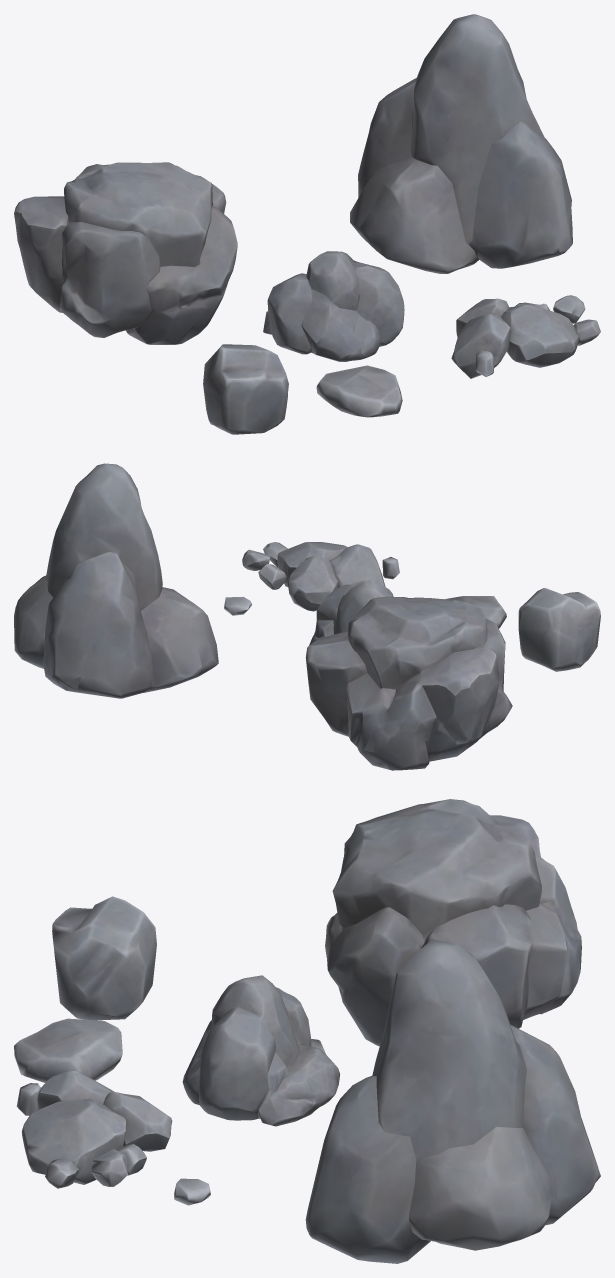
The model's file is rockscliffs.glb.
3 views of the same model, one above another, from view 1: azimuth 30°, elevation 25°; view 2: azimuth 150°, elevation 25°; view 3: azimuth 270°, elevation 25° (orthographic). The views are drawn at different scales.
Visible parts, largest first — view 1: SM_RockPack_Cliff_07_B, SM_RockPack_Cliff_07_D, SM_RockPack_RockGroups_02_B, SM_RockPack_RockGroups_01_A, SM_RockPack_Rock_07, SM_RockPack_Rock_01; view 2: SM_RockPack_Cliff_07_B, SM_RockPack_Cliff_07_D, SM_RockPack_RockGroups_01_A, SM_RockPack_Rock_07, SM_RockPack_RockGroups_02_B, SM_RockPack_Rock_01, SM_RockPack_Rock_04; view 3: SM_RockPack_Cliff_07_B, SM_RockPack_Cliff_07_D, SM_RockPack_RockGroups_02_B, SM_RockPack_RockGroups_01_A, SM_RockPack_Rock_07, SM_RockPack_Rock_01, SM_RockPack_Rock_04.
Part boxes in pixels (bbox=[...]): SM_RockPack_Cliff_07_B: bbox=[350, 14, 572, 273]; SM_RockPack_Cliff_07_D: bbox=[14, 162, 237, 344]; SM_RockPack_RockGroups_02_B: bbox=[263, 251, 404, 361]; SM_RockPack_RockGroups_01_A: bbox=[451, 295, 600, 378]; SM_RockPack_Rock_07: bbox=[203, 344, 288, 434]; SM_RockPack_Rock_01: bbox=[316, 365, 402, 417]; SM_RockPack_Cliff_07_B: bbox=[14, 463, 218, 698]; SM_RockPack_Cliff_07_D: bbox=[305, 596, 512, 770]; SM_RockPack_RockGroups_01_A: bbox=[242, 542, 399, 611]; SM_RockPack_Rock_07: bbox=[518, 588, 600, 671]; SM_RockPack_RockGroups_02_B: bbox=[309, 580, 393, 645]; SM_RockPack_Rock_01: bbox=[445, 596, 506, 628]; SM_RockPack_Rock_04: bbox=[224, 596, 251, 615]; SM_RockPack_Cliff_07_B: bbox=[305, 939, 600, 1263]; SM_RockPack_Cliff_07_D: bbox=[325, 799, 581, 1046]; SM_RockPack_RockGroups_02_B: bbox=[182, 975, 339, 1126]; SM_RockPack_RockGroups_01_A: bbox=[16, 1071, 172, 1188]; SM_RockPack_Rock_07: bbox=[52, 896, 156, 1020]; SM_RockPack_Rock_01: bbox=[14, 1018, 122, 1082]; SM_RockPack_Rock_04: bbox=[174, 1178, 210, 1205].
Bounding box in the file's own units: 23.66 × 10.11 × 18.13.
4 materials, 4 textured.
